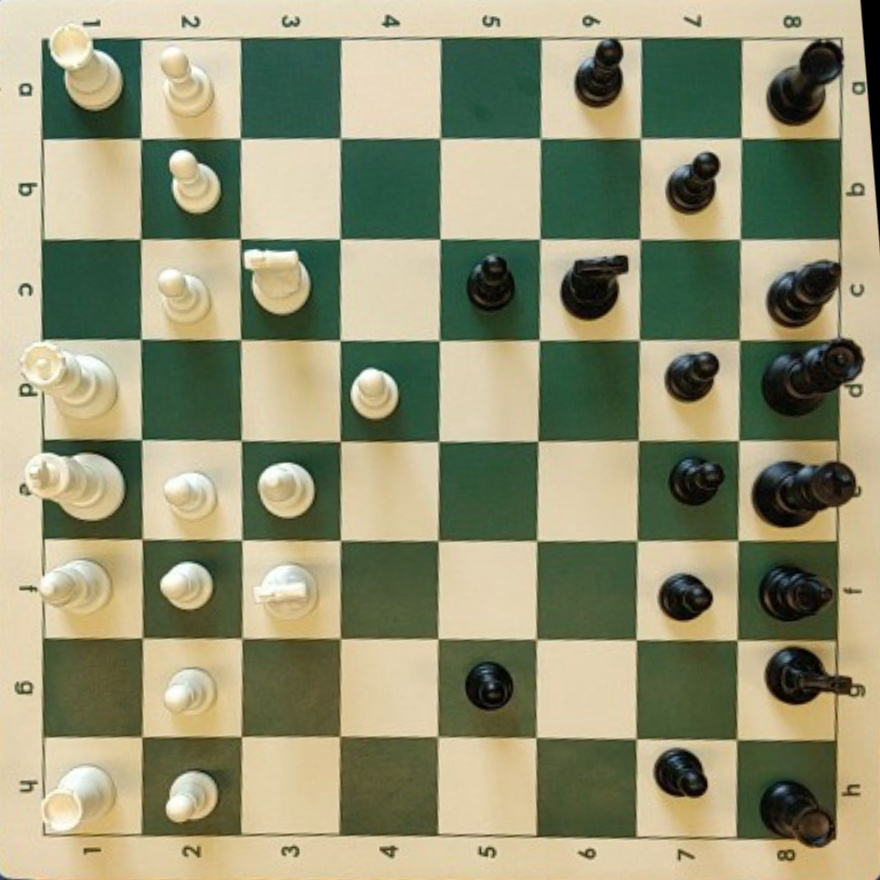black-bishop: (760, 565, 834, 621), (762, 262, 818, 318)
black-king: (753, 460, 858, 526)
black-knight: (766, 648, 865, 704), (560, 254, 629, 319)
black-pawn: (575, 37, 624, 106), (667, 152, 721, 212), (665, 352, 720, 401), (467, 255, 515, 310), (670, 456, 725, 504), (655, 749, 708, 798), (659, 573, 713, 620), (465, 661, 514, 710)
black-queen: (763, 339, 864, 414)
black-rook: (768, 40, 842, 124), (760, 779, 834, 847)
white-bishop: (37, 559, 111, 613), (257, 462, 315, 518)
white-king: (20, 451, 125, 520)
white-knight: (245, 251, 310, 315), (254, 563, 317, 619)
white-pawn: (160, 48, 214, 117), (168, 149, 221, 214), (157, 269, 211, 324), (164, 770, 218, 824), (159, 560, 213, 610), (163, 470, 216, 519), (350, 368, 399, 419), (163, 667, 214, 714)
white-queen: (19, 345, 118, 418)
white-rook: (49, 27, 124, 112), (41, 764, 115, 834)
